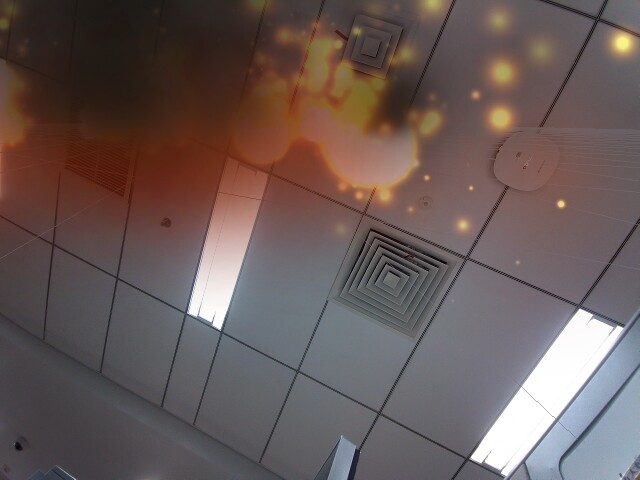fire: (326, 107, 419, 187), (229, 96, 297, 165)
